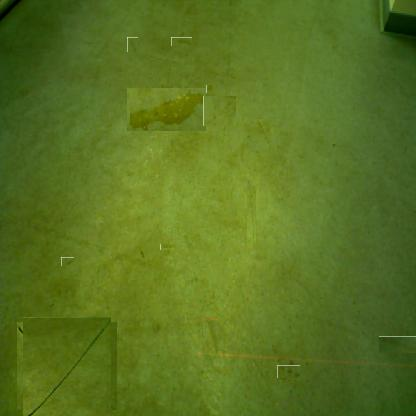liquid: (126, 87, 206, 131), (206, 86, 213, 93)
mark: (21, 319, 115, 413), (203, 96, 236, 126), (246, 179, 256, 255), (246, 122, 274, 148), (225, 1, 233, 87), (378, 336, 416, 353), (203, 317, 219, 355), (280, 362, 298, 381), (174, 34, 189, 49), (184, 1, 198, 15), (126, 38, 139, 51), (163, 242, 174, 253), (61, 257, 74, 266), (138, 246, 146, 260), (329, 139, 337, 149), (47, 302, 53, 308)
